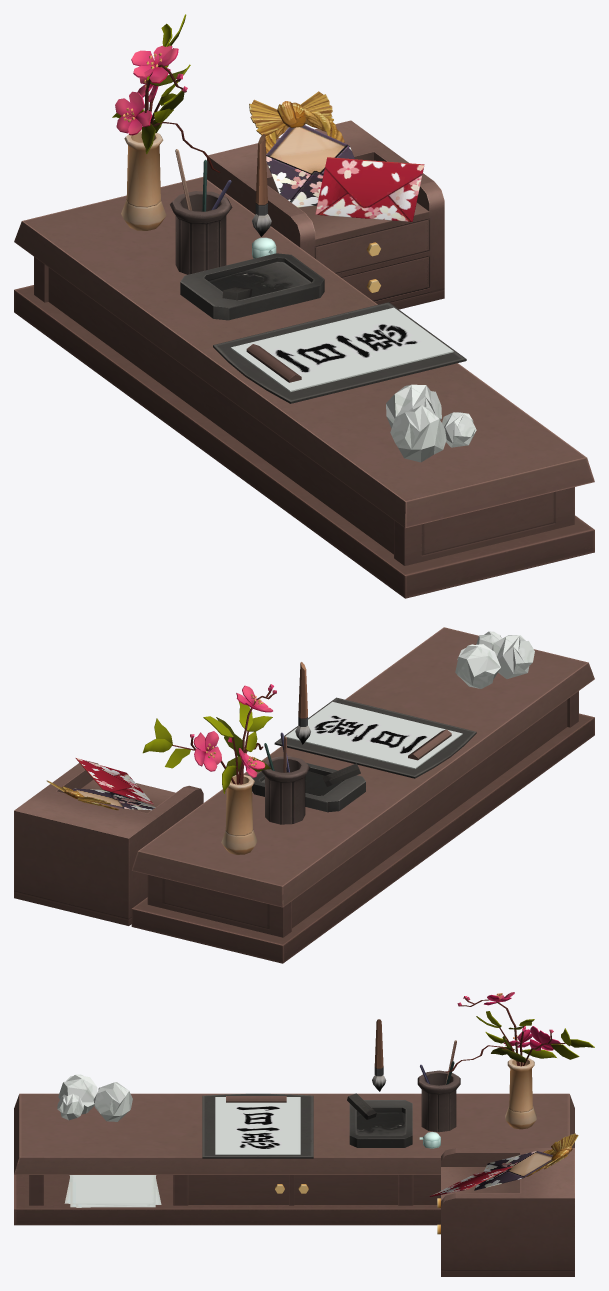
The model's file is my_newyearpath_table_01.fbx.
3 views of the same model, one above another, from view 1: azimuth 30°, elevation 25°; view 2: azimuth 150°, elevation 25°; view 3: azimuth 270°, elevation 25° (orthographic). The views are drawn at different scales.
Visible parts, largest first — view 1: my_newyearpath_table_01; view 2: my_newyearpath_table_01; view 3: my_newyearpath_table_01.
Part boxes in pixels (x1=…): my_newyearpath_table_01: x1=14, y1=14, x2=594, y2=598; my_newyearpath_table_01: x1=14, y1=627, x2=594, y2=963; my_newyearpath_table_01: x1=14, y1=992, x2=594, y2=1276.
Bounding box in the file's own units: 0.8374 × 0.666 × 1.74.
2 materials, 2 textured.
